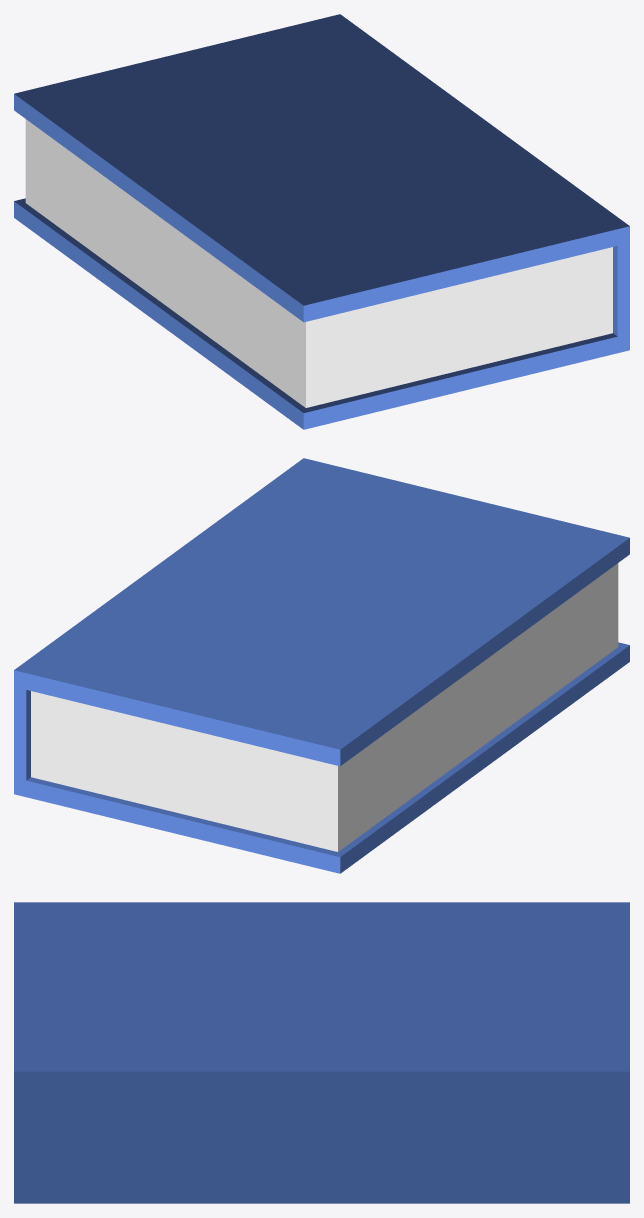
File: Book 7.fbx
The picture shows the model from 3 angles, top to bottom: view 1: azimuth 30°, elevation 25°; view 2: azimuth 150°, elevation 25°; view 3: azimuth 270°, elevation 25°; orthographic projection. The views are drawn at different scales.
Visible parts, largest first — view 1: Node 0; view 2: Node 0; view 3: Node 0.
Part boxes in pixels (box(x1,y1,x2,y2)): Node 0: box(14, 14, 629, 429); Node 0: box(14, 458, 629, 873); Node 0: box(14, 902, 629, 1203).
Bounding box in the file's own units: 0.2444 × 0.0577 × 0.1589.
